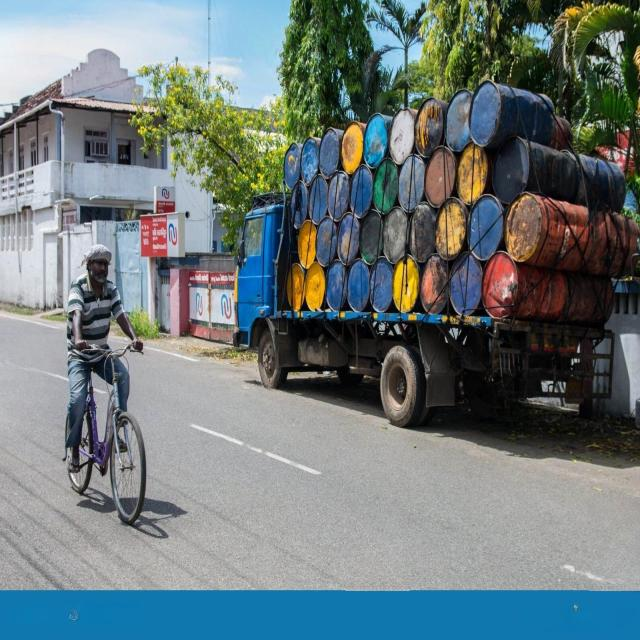bicycle: (65, 244, 146, 523)
truck: (232, 81, 639, 426)
